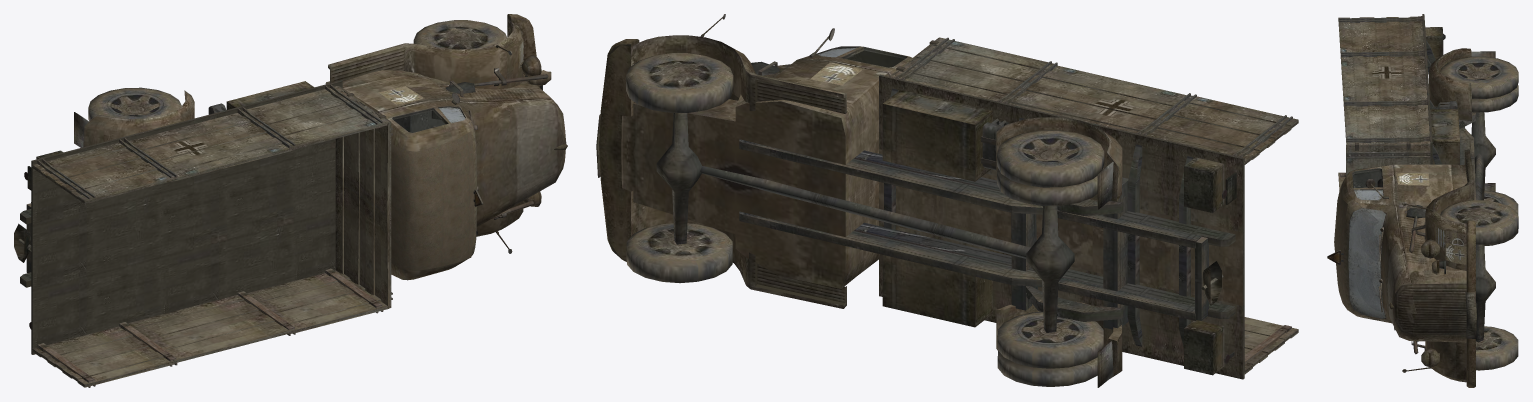
Rendered from vehicle_opel_blitz_desert_static.glb.
3 renders of one model, left to right at view 1: azimuth 30°, elevation 25°; view 2: azimuth 150°, elevation 25°; view 3: azimuth 270°, elevation 25°, orthographic. The views are drawn at different scales.
Size of the model in its own units: 255 by 93.26 by 93.46.
4 materials, 4 textured.
